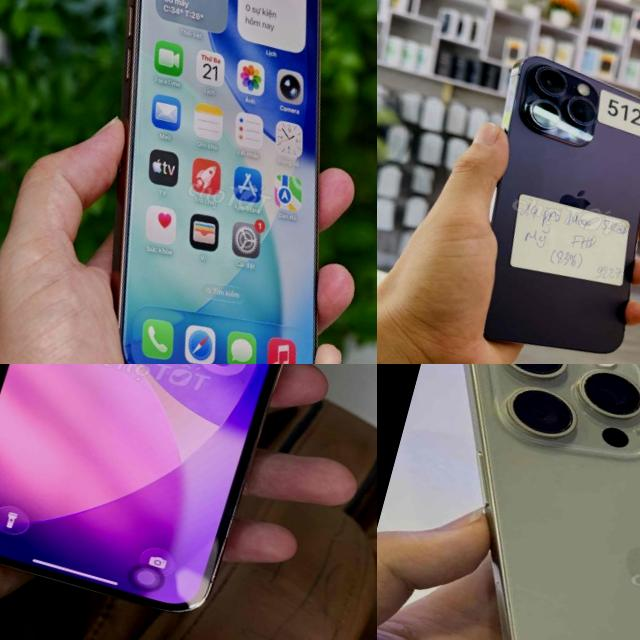scratch: (513, 60, 610, 149)
